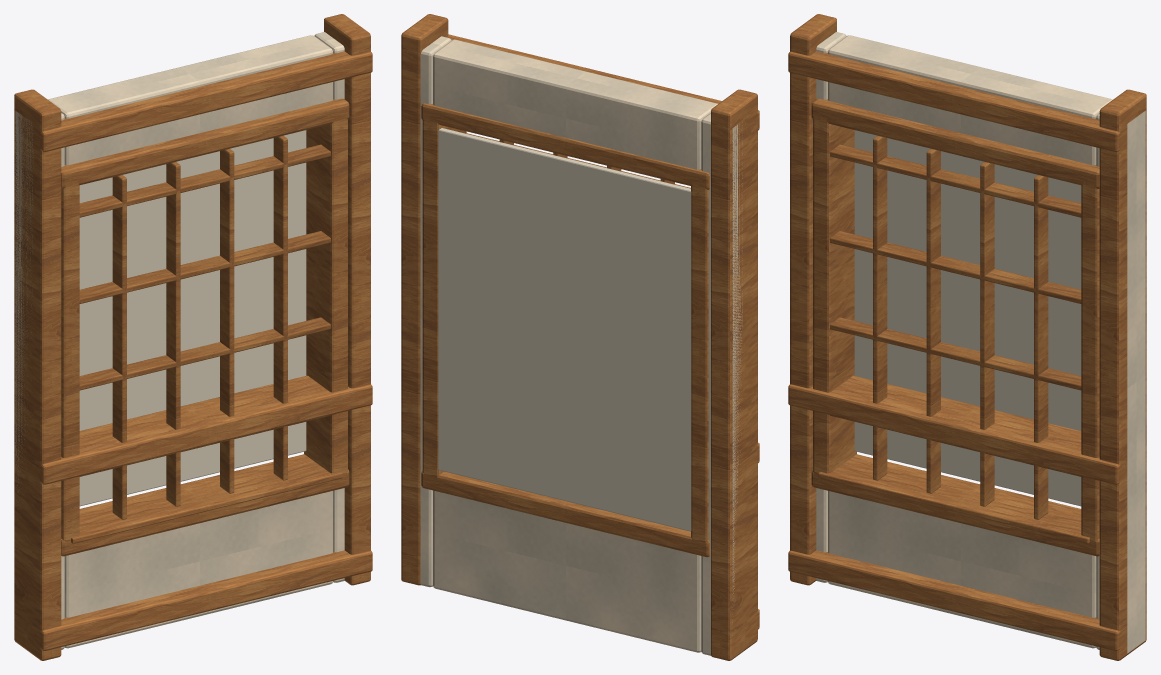
Rendered from WC_CAFE_Wall_Window_A.glb.
3 renders of one model, left to right at view 1: azimuth 30°, elevation 25°; view 2: azimuth 150°, elevation 25°; view 3: azimuth 330°, elevation 25°, orthographic.
Parts seen in each view (by area): view 1: WC_CAFE_Wall_Window_A_PolishedRenderMesh; view 2: WC_CAFE_Wall_Window_A_PolishedRenderMesh; view 3: WC_CAFE_Wall_Window_A_PolishedRenderMesh.
Boxes of the visible parts, left/top/right/bottom form: WC_CAFE_Wall_Window_A_PolishedRenderMesh: left=14, top=14, right=372, bottom=660; WC_CAFE_Wall_Window_A_PolishedRenderMesh: left=401, top=14, right=759, bottom=660; WC_CAFE_Wall_Window_A_PolishedRenderMesh: left=788, top=14, right=1146, bottom=660.
Bounding box in the file's own units: 1.6 × 2.54 × 0.26.
5 materials, 4 textured.
